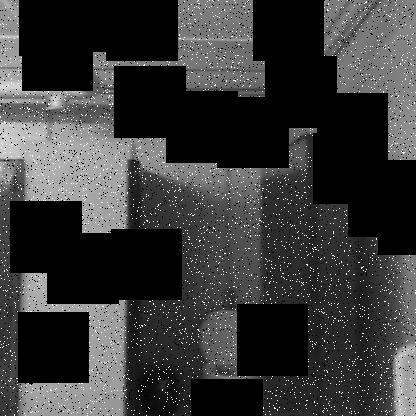Porte: (123, 132, 322, 415)
